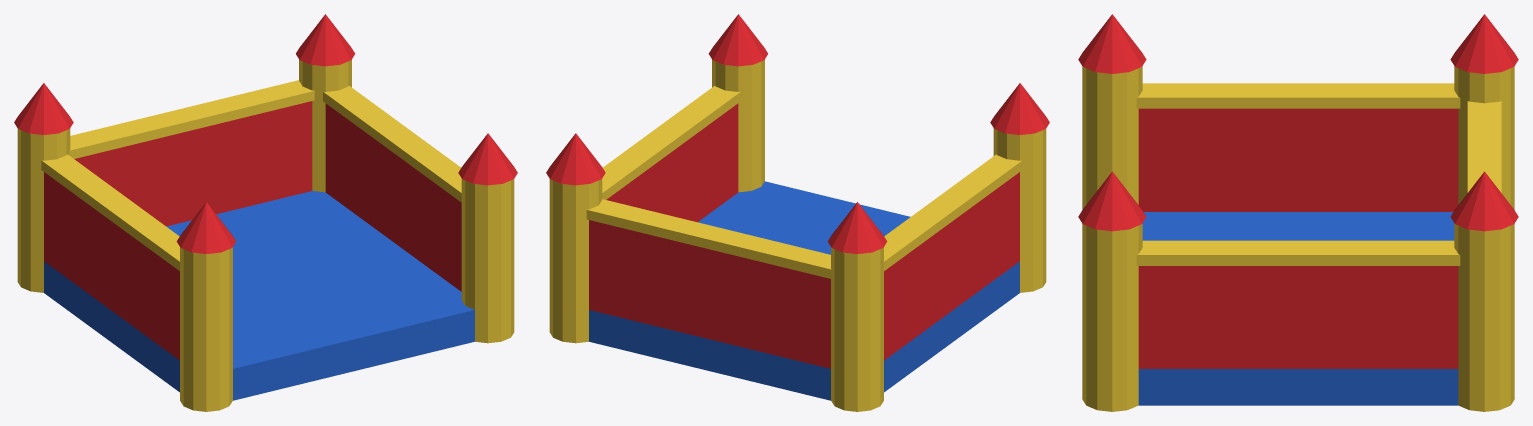
Rendered from bouncy_castle.glb.
3 renders of one model, left to right at view 1: azimuth 30°, elevation 25°; view 2: azimuth 150°, elevation 25°; view 3: azimuth 270°, elevation 25°, orthographic. The views are drawn at different scales.
Visible parts, largest first — view 1: walls_castle_red, floor_castle_blue, towers_castle_yellow, walls_castle_yellow, towers_castle_red; view 2: walls_castle_red, towers_castle_yellow, floor_castle_blue, walls_castle_yellow, towers_castle_red; view 3: walls_castle_red, towers_castle_yellow, floor_castle_blue, walls_castle_yellow, towers_castle_red.
Part boxes in pixels (left/top/right/bottom): walls_castle_red: left=44, top=101, right=461, bottom=360; floor_castle_blue: left=44, top=191, right=474, bottom=400; towers_castle_yellow: left=17, top=59, right=514, bottom=411; walls_castle_yellow: left=41, top=80, right=461, bottom=270; towers_castle_red: left=14, top=14, right=517, bottom=253; walls_castle_red: left=589, top=103, right=1019, bottom=368; towers_castle_yellow: left=549, top=59, right=1046, bottom=411; floor_castle_blue: left=589, top=181, right=1019, bottom=400; walls_castle_yellow: left=586, top=86, right=1022, bottom=278; towers_castle_red: left=546, top=14, right=1049, bottom=253; walls_castle_red: left=1138, top=108, right=1458, bottom=368; towers_castle_yellow: left=1082, top=66, right=1514, bottom=411; floor_castle_blue: left=1138, top=212, right=1458, bottom=405; walls_castle_yellow: left=1136, top=83, right=1501, bottom=265; towers_castle_red: left=1078, top=14, right=1518, bottom=231.
Size of the model in its own units: 4.38 by 2.5 by 4.38.
